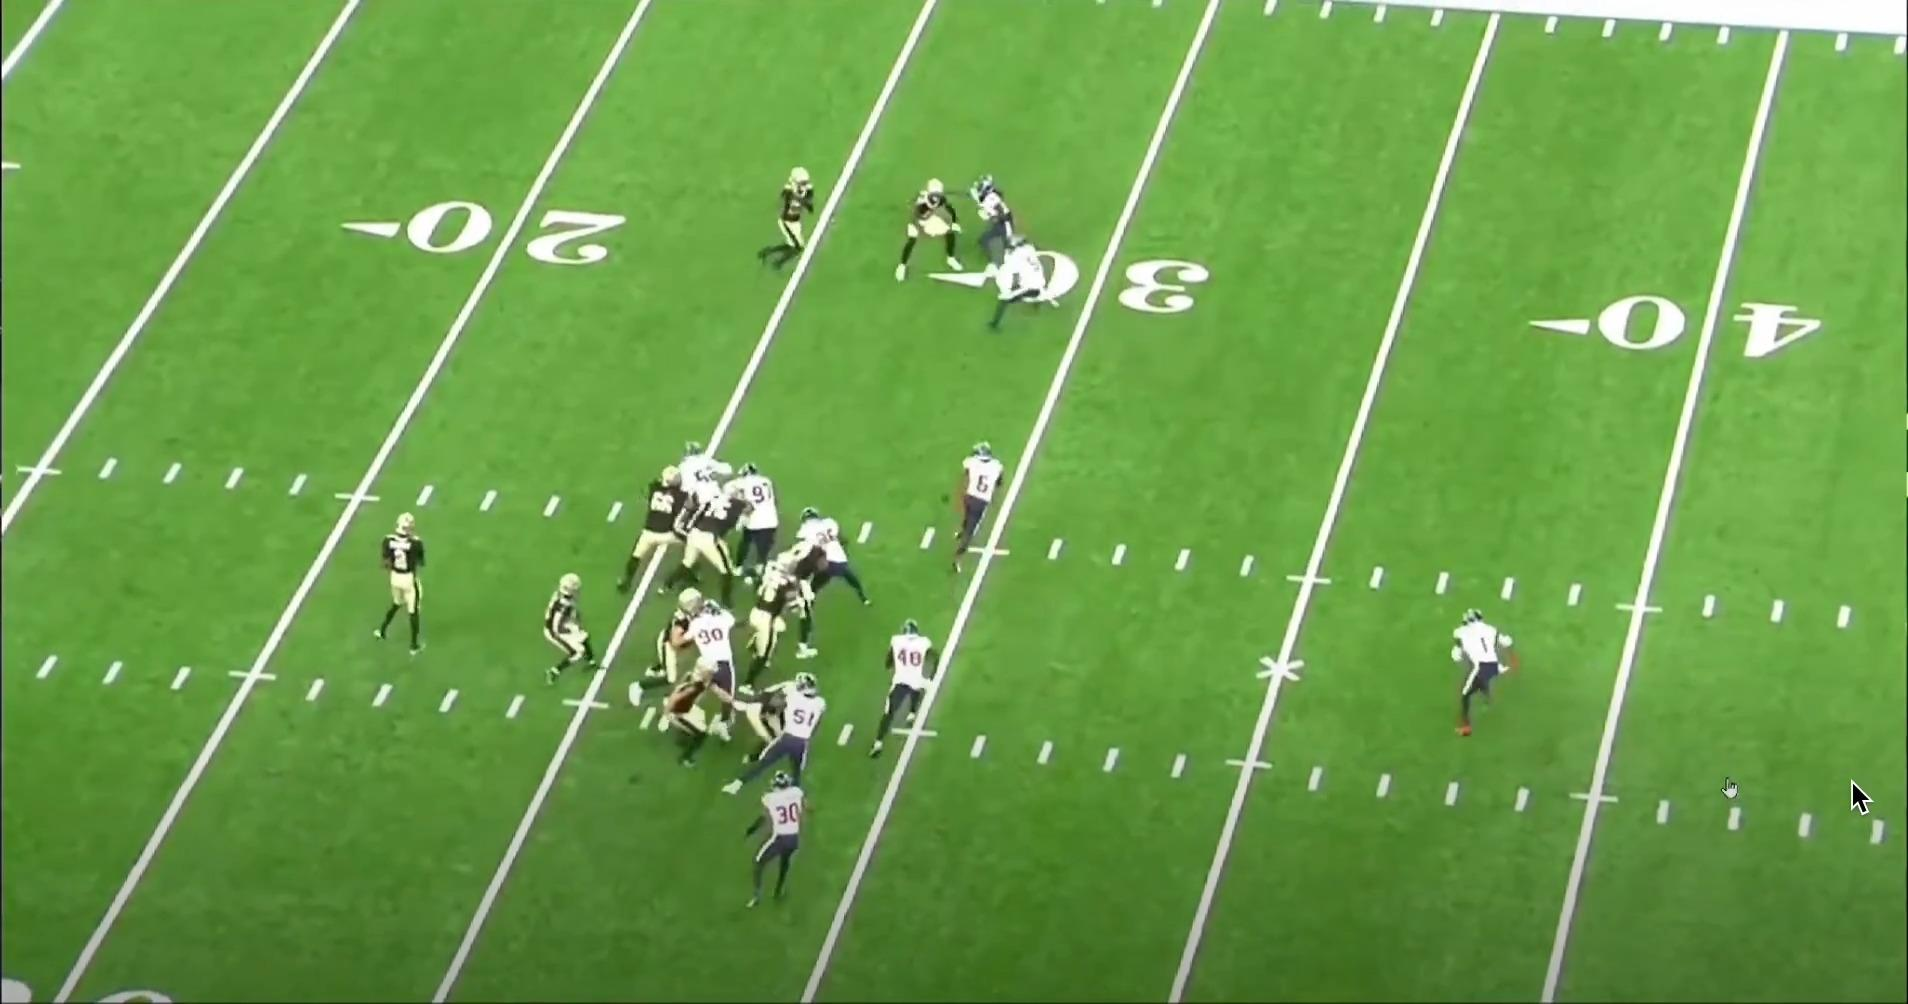defense: (723, 670, 832, 798), (669, 597, 742, 743), (734, 769, 808, 914), (864, 616, 938, 761), (1449, 609, 1521, 744), (792, 508, 877, 612), (948, 441, 1008, 573), (978, 235, 1047, 339), (676, 444, 743, 528), (973, 174, 1027, 276), (726, 462, 776, 569)
oline: (650, 477, 755, 600), (620, 465, 714, 594), (736, 550, 815, 680), (626, 590, 702, 706), (777, 528, 833, 660)
qb: (366, 507, 428, 660)
ref: (1846, 778, 1878, 820)
skill: (657, 657, 736, 772), (893, 174, 969, 284), (738, 666, 819, 766), (540, 565, 604, 684), (758, 166, 814, 274)
